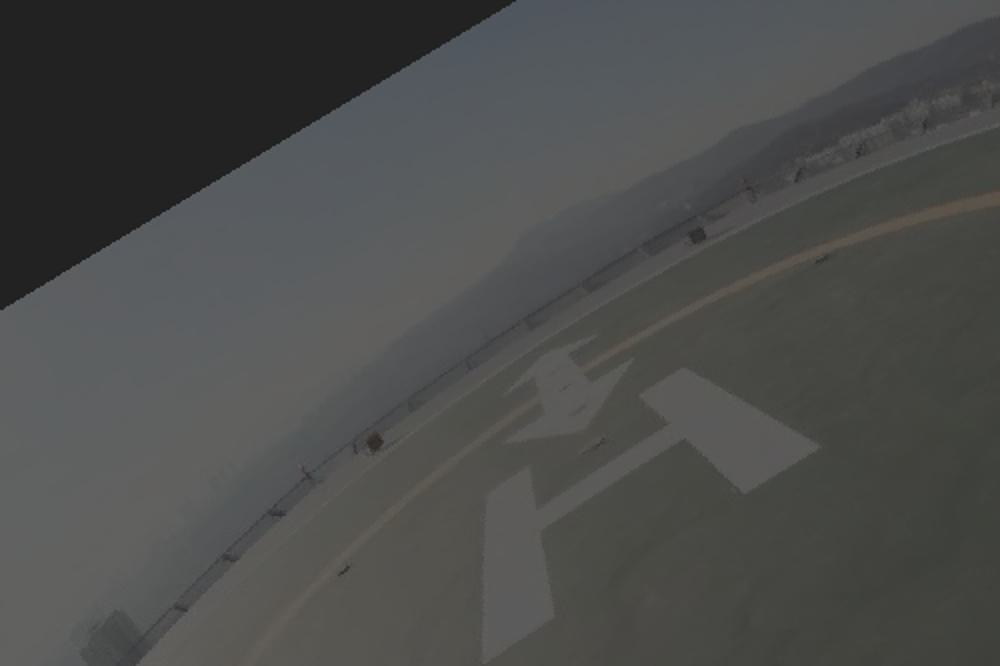Apron: (222, 157, 1000, 666)
